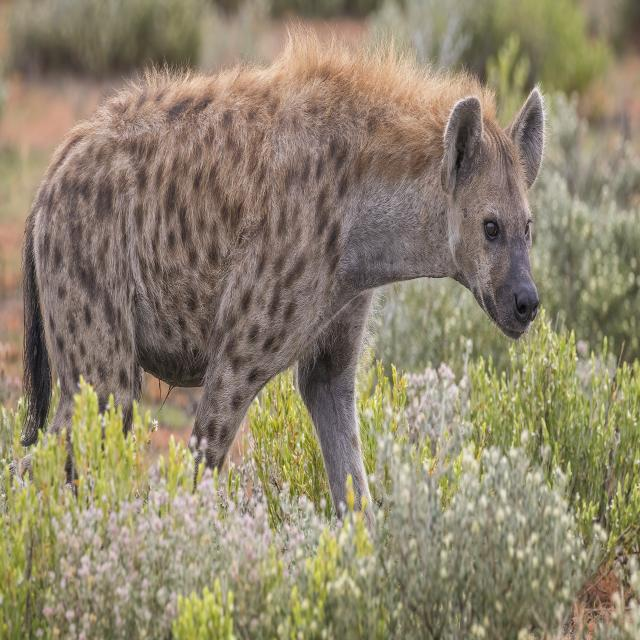Hyena: (21, 30, 549, 490)
